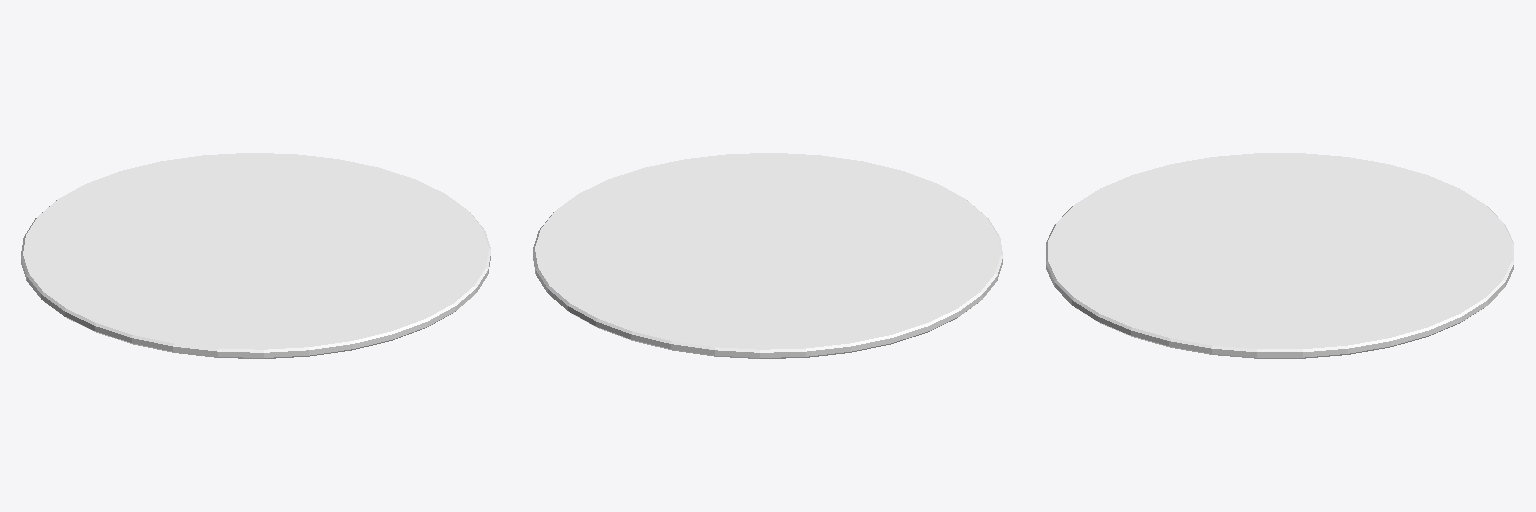
File: Coin.obj
3 views of the same model, side by side, from view 1: azimuth 30°, elevation 25°; view 2: azimuth 150°, elevation 25°; view 3: azimuth 270°, elevation 25° (orthographic).
Visible parts, largest first — view 1: Vertex_Object; view 2: Vertex_Object; view 3: Vertex_Object.
Boxes of the visible parts, x1=… form: Vertex_Object: x1=21, y1=153, x2=490, y2=358; Vertex_Object: x1=533, y1=153, x2=1002, y2=358; Vertex_Object: x1=1046, y1=153, x2=1513, y2=358.
Bounding box in the file's own units: 2 × 0.0445 × 2.